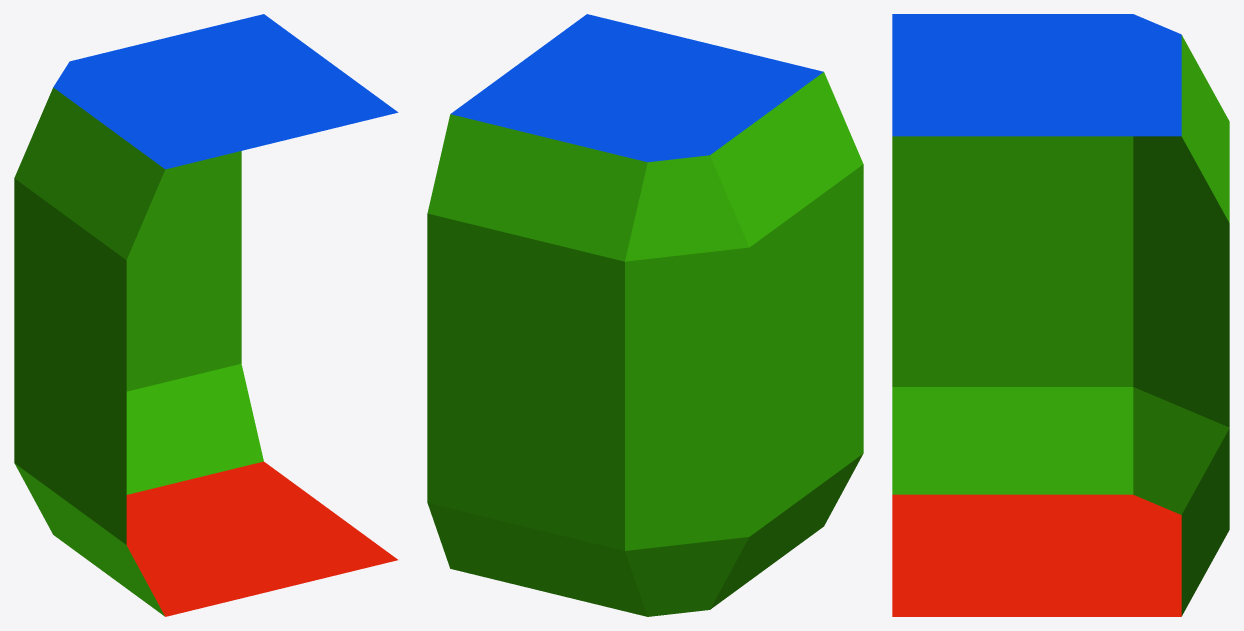
File: outside_corner_angled.FBX
3 views of the same model, side by side, from view 1: azimuth 30°, elevation 25°; view 2: azimuth 150°, elevation 25°; view 3: azimuth 270°, elevation 25° (orthographic). The views are drawn at different scales.
Visible parts, largest first — view 1: Object001; view 2: Object001; view 3: Object001.
Part boxes in pixels (x1,y1,x2,y2): Object001: (14,14,398,616); Object001: (427,14,863,616); Object001: (892,14,1229,616).
Size of the model in its own units: 68.9 by 108 by 68.9.
